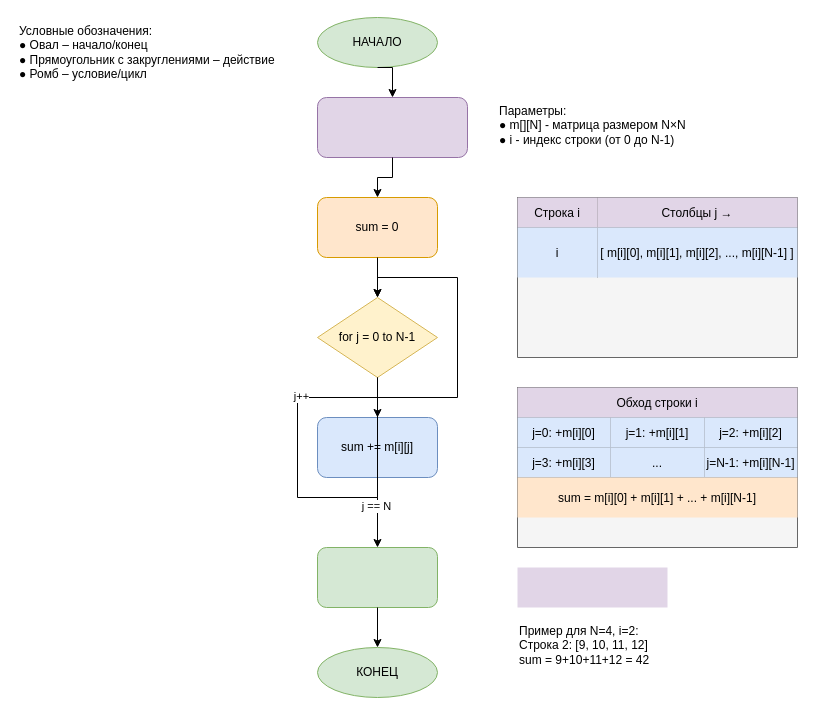
Image size: 815x715. Some labels were removed from this diagram. The centre of each missing label's shape, as x and y in pixels:
"ВЕРНУТЬ sum" goes at [377,577].
"Вход: матрица m[][N], номер строки i" goes at [392,127].
"Сложность: O(N) Количество итераций: N" goes at [592,587].
